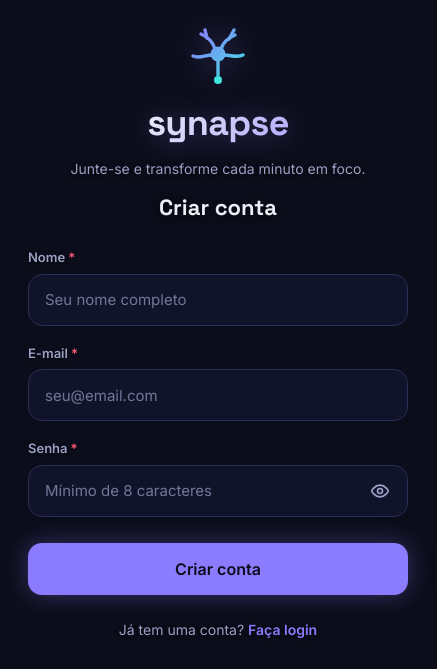
Test case: Página de Cadastro › exibe erro para senha com menos de 8 caracteres, como exige o backend
The width and height of the screenshot is (437, 669).
Type "Ana Souza" into the field labelled "Nome*".
click(218, 300); type("Ana Souza")  # box [28, 274, 408, 326]
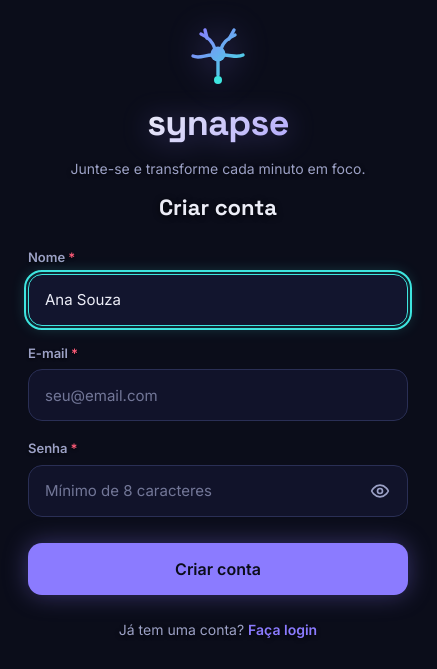
Type "ana@email.com" into the field labelled "E-mail*".
click(218, 395); type("ana@email.com")  # box [28, 369, 408, 421]
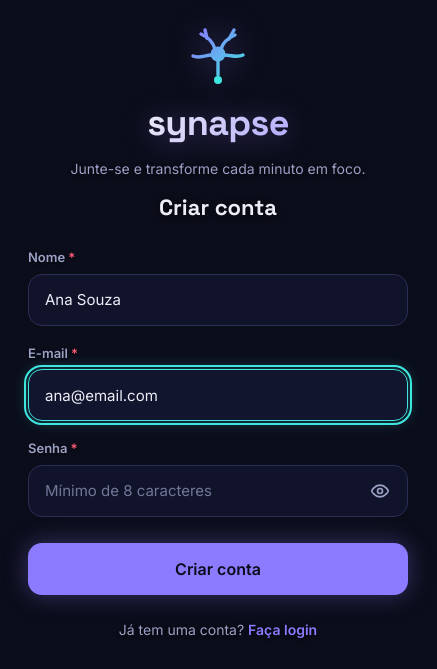
Type "abc1234" into the password field labelled "Senha*".
click(218, 491); type("abc1234")  # box [28, 465, 408, 517]
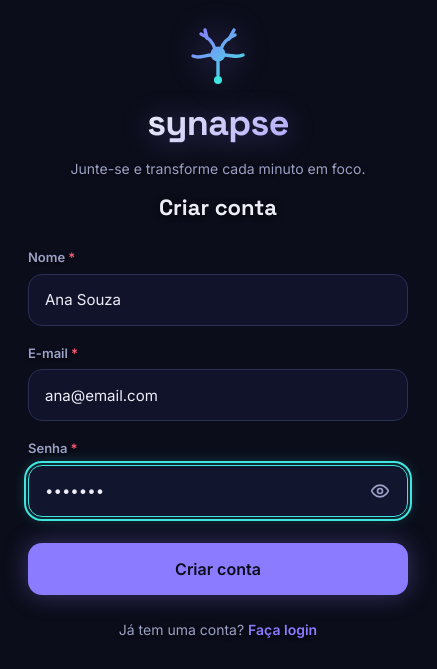
Click the button "Criar conta".
click(218, 569)  # box [28, 543, 408, 595]
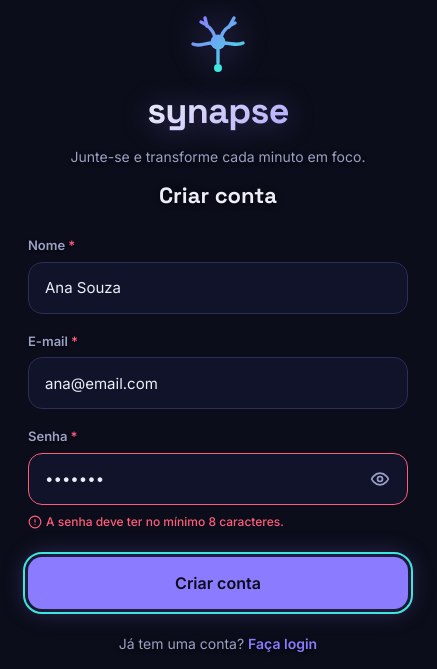
expect the text "A senha deve ter no mínimo 8 caracteres." is shown: met, box [28, 514, 284, 529]
